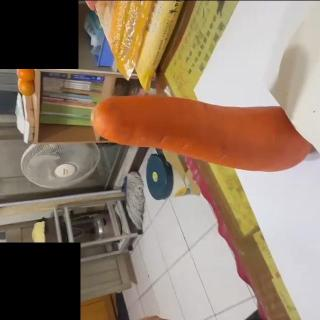carrot: (92, 93, 318, 173)
